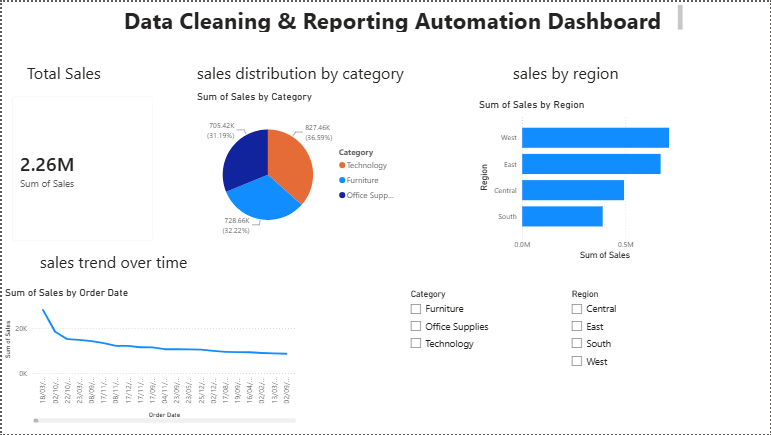

The dashboard page shown, as its layout file describes it:
{"tool":"powerbi","page":{"name":"Page 1","canvas":[1280,720],"ordinal":0},"visuals":[{"type":"textbox","box":[198.2,0,940.7,55.4],"z":0},{"type":"cardVisual","fields":{"Data":["Sum(cleaned_data.Sales)"]},"box":[0,140,268.3,275],"z":1000},{"type":"textbox","box":[36.7,95,181.7,51.7],"z":2000},{"type":"textbox","box":[320,95,430,51.7],"z":2001},{"type":"pieChart","fields":{"Category":["cleaned_data.Category"],"Y":["Sum(cleaned_data.Sales)"]},"box":[320,146.7,348.3,263.3],"z":2002},{"type":"textbox","box":[846.7,95,270,51.7],"z":2003},{"type":"clusteredBarChart","fields":{"Category":["cleaned_data.Region"],"Y":["Sum(cleaned_data.Sales)"]},"box":[790,160,371.7,275],"z":2004},{"type":"textbox","box":[58.3,410,338.3,51.7],"z":2005},{"type":"lineChart","fields":{"Category":["cleaned_data.Order Date"],"Y":["Sum(cleaned_data.Sales)"]},"box":[0,473.3,495,233.3],"z":2006},{"type":"slicer","fields":{"Values":["cleaned_data.Category"]},"box":[668.3,473.3,220,245],"z":2007},{"type":"slicer","fields":{"Values":["cleaned_data.Region"]},"box":[936.7,473.3,255,190],"z":2008}]}

Visuals, with their boxes in screenshot pixels (x1, y1, x2, y2), scaled from the page's 1280x720 canvas onto the 771x435 screenshot:
textbox: [119,0,686,33]
cardVisual - Sum(cleaned_data.Sales): [0,85,162,251]
textbox: [22,57,132,89]
textbox: [193,57,452,89]
pieChart - cleaned_data.Category x Sum(cleaned_data.Sales): [193,89,403,248]
textbox: [510,57,673,89]
clusteredBarChart - cleaned_data.Region x Sum(cleaned_data.Sales): [476,97,700,263]
textbox: [35,248,239,279]
lineChart - cleaned_data.Order Date x Sum(cleaned_data.Sales): [0,286,298,427]
slicer - cleaned_data.Category: [403,286,535,434]
slicer - cleaned_data.Region: [564,286,718,401]
